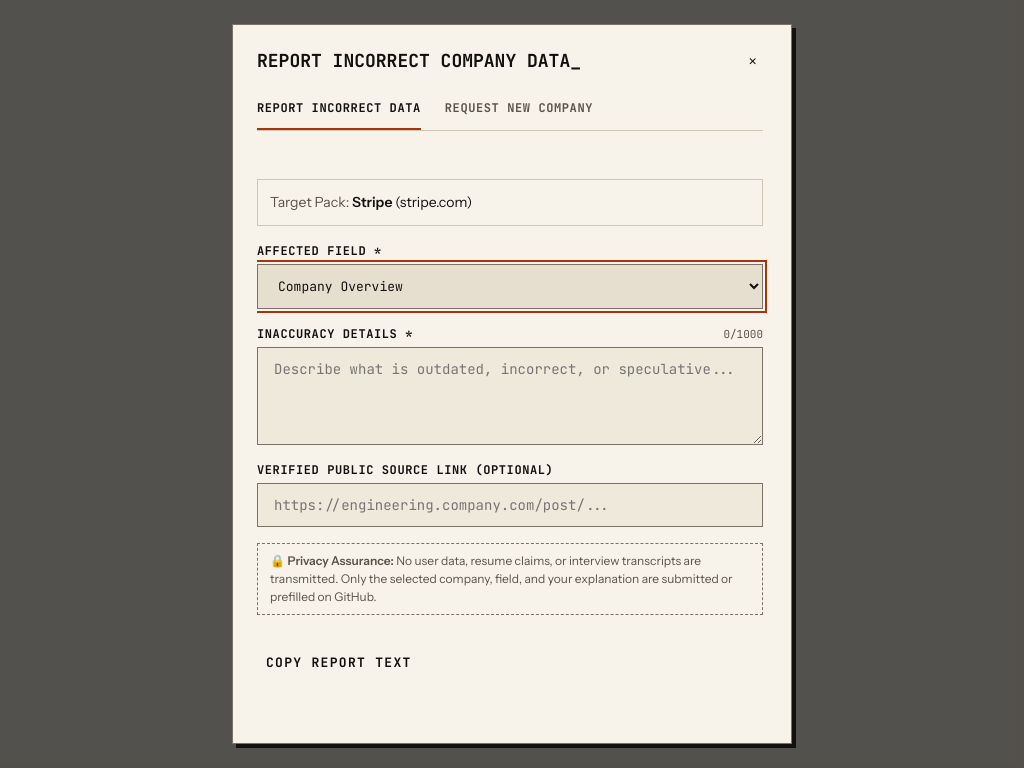
Test: PG-21: CompanyReportDialog (M4.5) › copies report markdown to clipboard
Type "The interview process stages are missing the practical pair-programming stage." into the text box labelled "Inaccuracy Details *" at (510, 396), box x1=257 y1=347 x2=763 y2=445
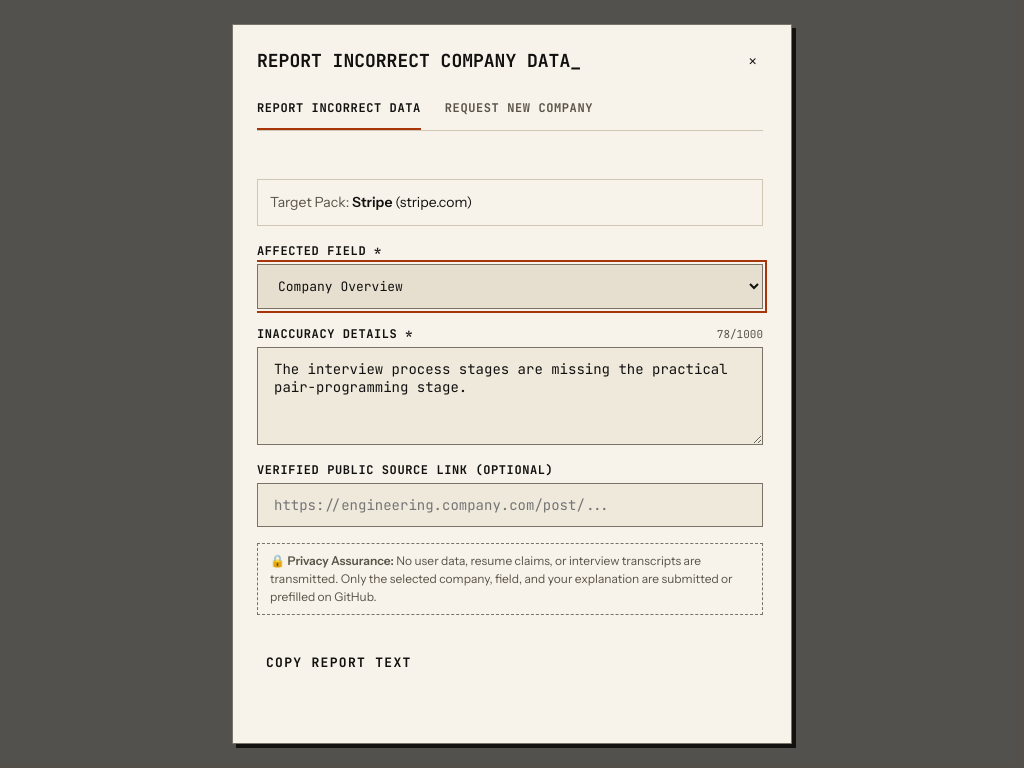
Click the button with test id "copy-report-btn" at (339, 662), box x1=257 y1=639 x2=421 y2=686
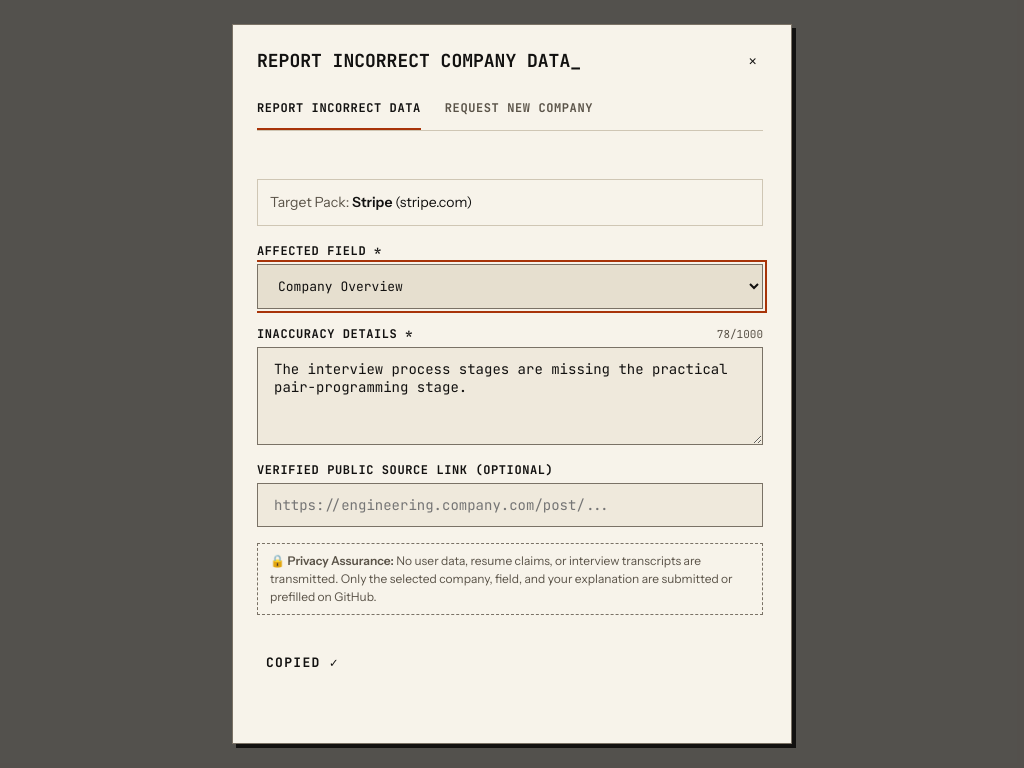
Check: the text "Copied ✓" is shown, box x1=266 y1=656 x2=339 y2=669
